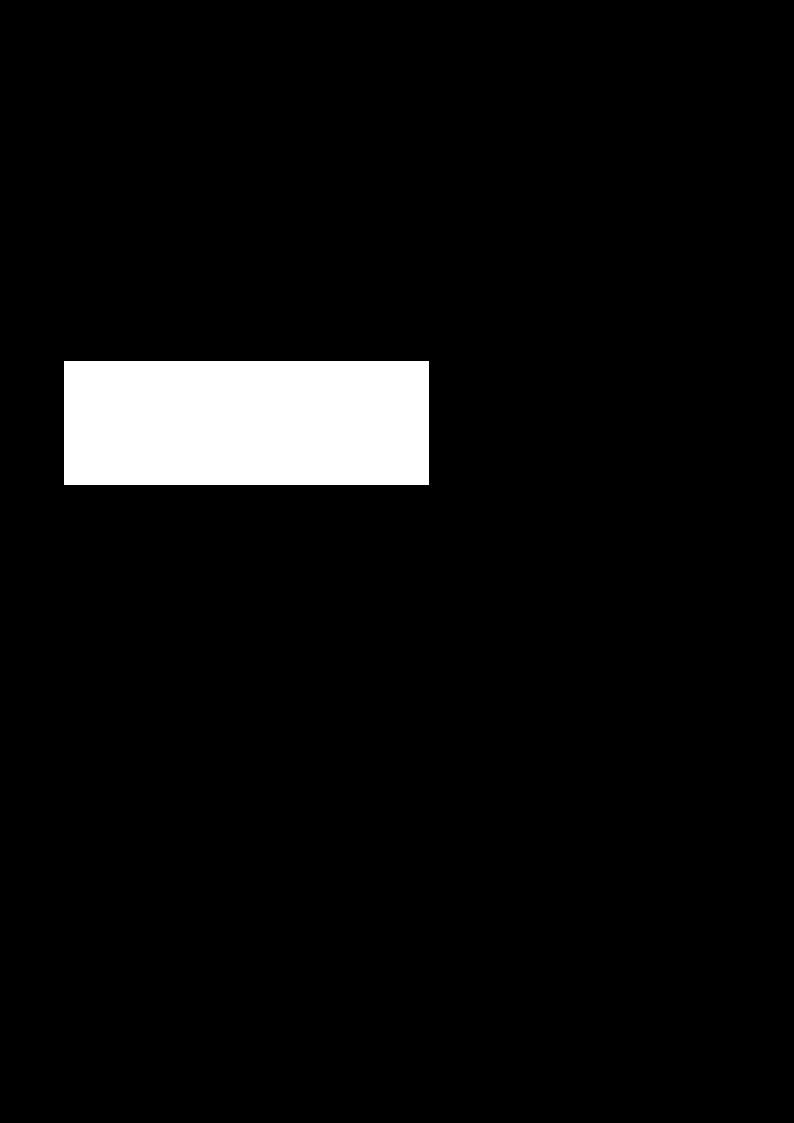table: (64, 361, 428, 484)
